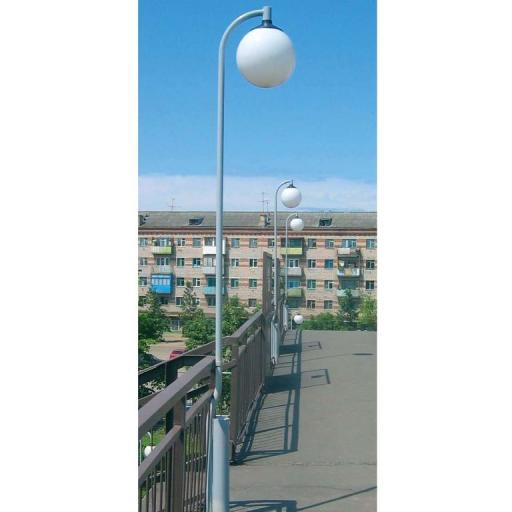Light-pole: (201, 6, 278, 512), (264, 174, 296, 362), (279, 208, 306, 329)
